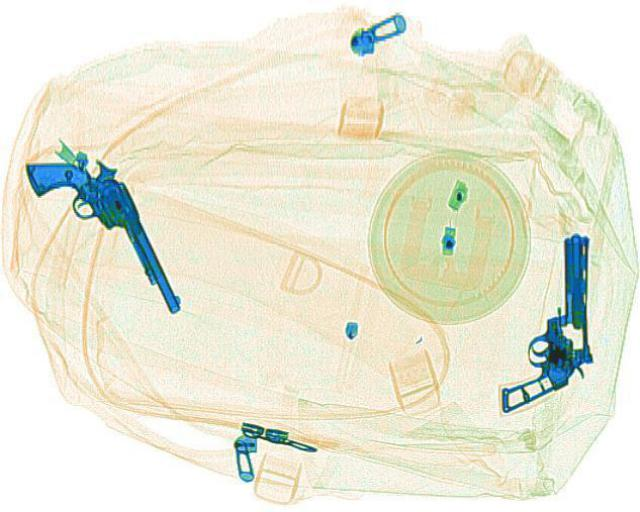Gun: (20, 143, 182, 331), (492, 230, 592, 410)
